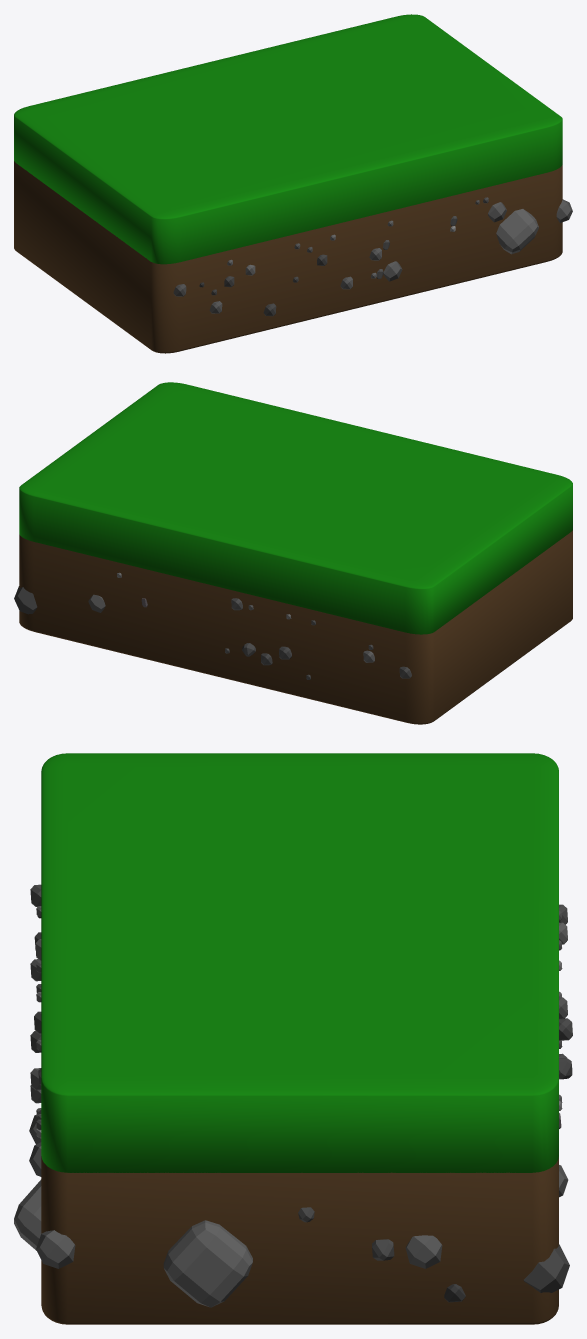
File: platformumufbx.fbx
3 views of the same model, one above another, from view 1: azimuth 30°, elevation 25°; view 2: azimuth 150°, elevation 25°; view 3: azimuth 270°, elevation 25° (orthographic). The views are drawn at different scales.
Parts seen in each view (by area): view 1: Cube, Cube.001, Cube.010; view 2: Cube, Cube.001, Cube.051; view 3: Cube, Cube.001, Cube.026, Cube.010, Cube.051, Cube.020, Cube.054.
Boxes of the visible parts, x1,y1,x2,y2 form: Cube: (14,14,562,264); Cube.001: (14,161,562,353); Cube.010: (496,209,538,254); Cube: (19,382,572,634); Cube.001: (19,530,572,724); Cube.051: (14,586,37,614); Cube: (41,753,558,1172); Cube.001: (41,1156,558,1324); Cube.026: (163,1220,252,1307); Cube.010: (14,1179,41,1250); Cube.051: (523,1244,569,1292); Cube.020: (36,1230,75,1268); Cube.054: (405,1235,442,1268).
Bounding box in the file's own units: 284 × 88.62 × 187.
